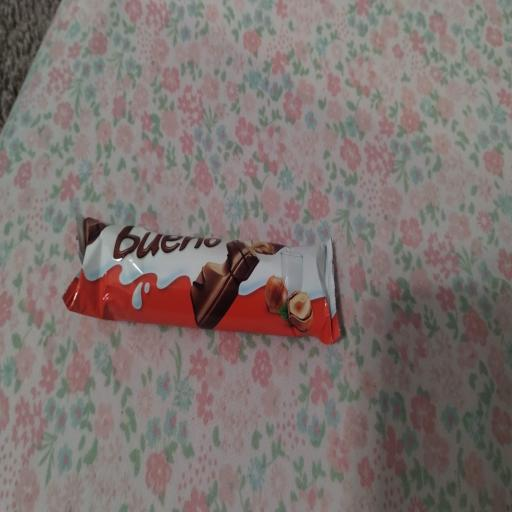chocolate: (64, 216, 339, 343)
